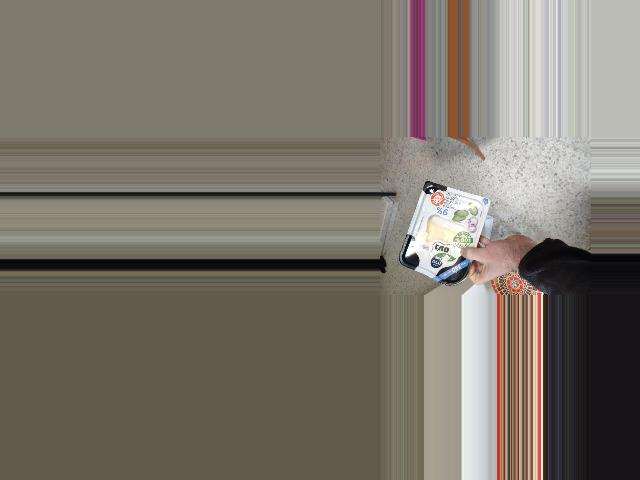cheese: (407, 188, 475, 278)
